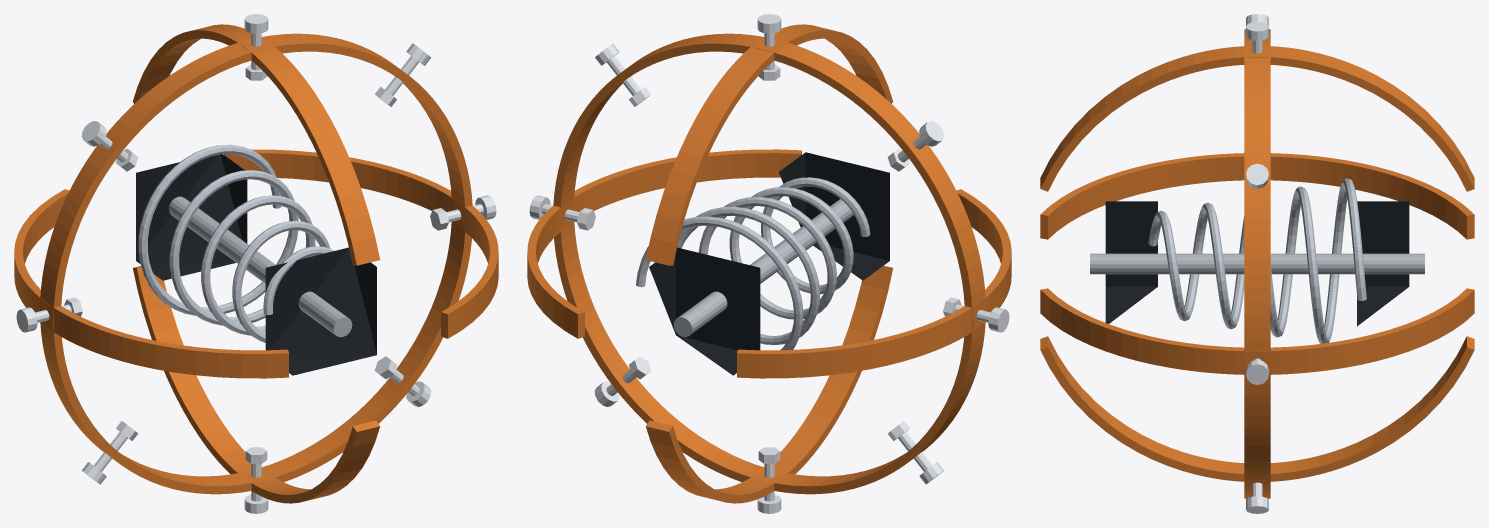
Rendered from unit_cell_equatorial_d88.obj.
3 views of the same model, side by side, from view 1: azimuth 30°, elevation 25°; view 2: azimuth 150°, elevation 25°; view 3: azimuth 270°, elevation 25° (orthographic). The views are drawn at different scales.
Visible parts, largest first — view 1: links_equatorial, collars, spring, pins, shaft; view 2: links_equatorial, collars, spring, pins, shaft; view 3: links_equatorial, spring, collars, shaft, pins.
Boxes of the visible parts, <box> form: links_equatorial: <box>14,24,498,503</box>; collars: <box>136,154,376,375</box>; spring: <box>138,144,333,342</box>; pins: <box>16,14,496,513</box>; shaft: <box>168,196,352,337</box>; links_equatorial: <box>527,24,1011,503</box>; collars: <box>649,152,889,375</box>; spring: <box>636,177,870,350</box>; pins: <box>529,14,1009,513</box>; shaft: <box>673,199,853,337</box>; links_equatorial: <box>1040,29,1474,498</box>; spring: <box>1148,178,1366,343</box>; collars: <box>1105,201,1409,326</box>; shaft: <box>1090,253,1424,274</box>; pins: <box>1246,14,1268,513</box>.
Size of the model in its own units: 100 by 100 by 82.93.
